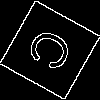C: (24, 25, 83, 79)
